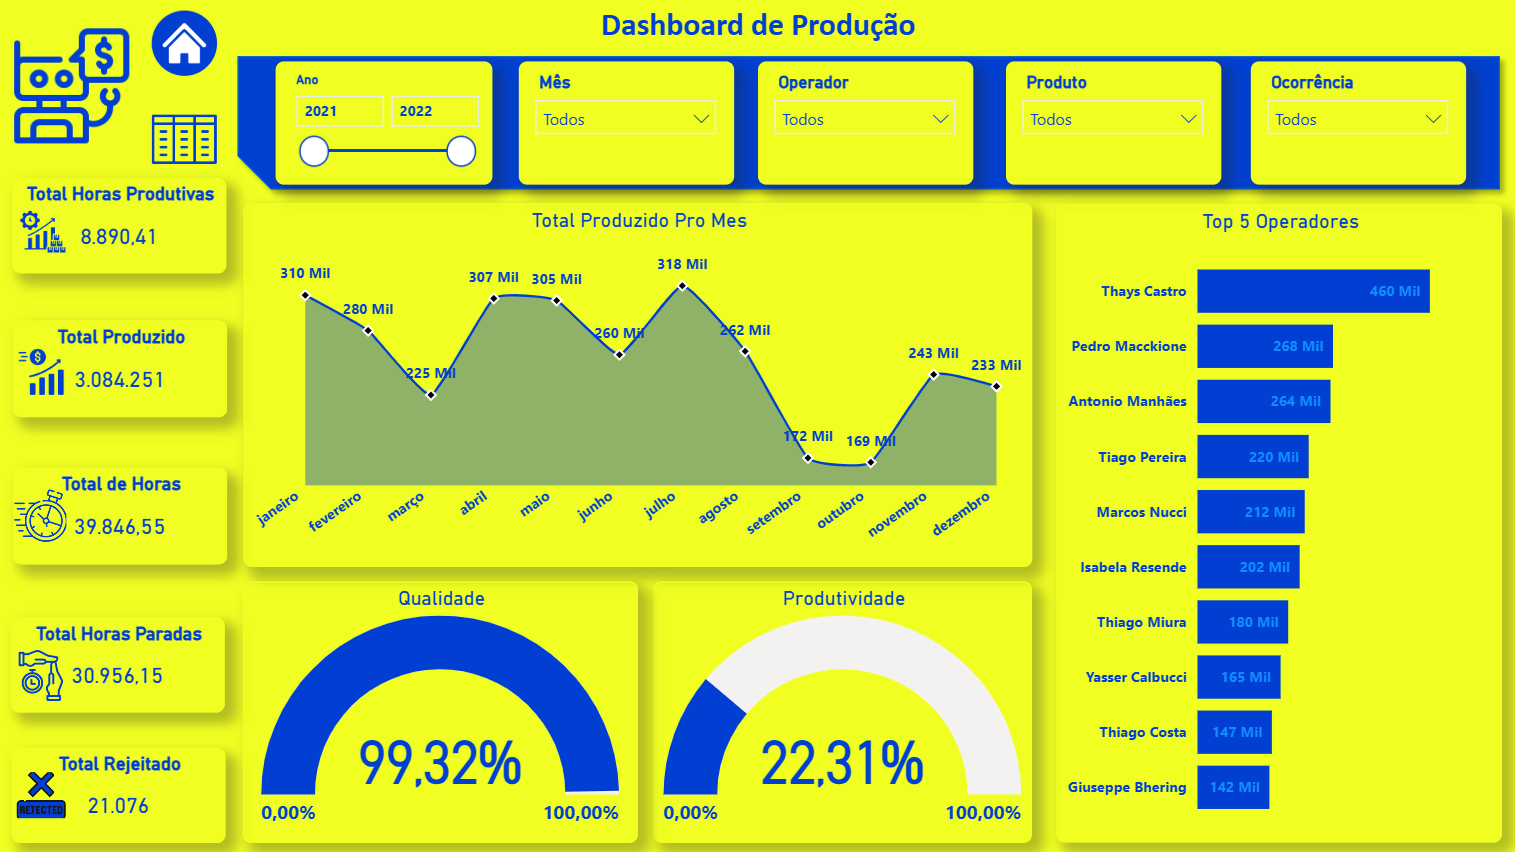

The dashboard page shown, as its layout file describes it:
{"tool":"powerbi","page":{"name":"DashBoard","canvas":[1280,720],"ordinal":1},"visuals":[{"type":"shape","box":[192.6,38.9,1080.6,130.3],"z":0},{"type":"card","title":"Total  Produzido","fields":{"Values":["medidas.QTD produzido"]},"box":[12.6,270.4,179.9,80.7],"z":1000},{"type":"card","title":"Total  Rejeitado","fields":{"Values":["medidas.QTD rejeitado"]},"box":[11.7,630.3,179.9,79.8],"z":2000},{"type":"card","title":"Total  de Horas","fields":{"Values":["medidas.Total de horas"]},"box":[12.6,394.9,179.9,80.7],"z":3000},{"type":"card","title":"Total Horas Produtivas","fields":{"Values":["medidas.Horas Produtivas"]},"box":[12.4,150.7,180,79.8],"z":4000},{"type":"card","title":"Total Horas Paradas","fields":{"Values":["medidas.Total de horas paradas"]},"box":[10.7,520.4,179.9,79.8],"z":5000},{"type":"slicer","fields":{"Values":["BaseProdução.Operador"]},"box":[640,52.5,180.9,104.1],"z":6000},{"type":"slicer","fields":{"Values":["BaseProdução.Data Inicio.Variation.Hierarquia de datas.Mês"]},"box":[438.7,52.5,180.9,104.1],"z":7000},{"type":"slicer","fields":{"Values":["BaseProdução.Produto"]},"box":[848.1,52.5,180.9,104.1],"z":8000},{"type":"slicer","fields":{"Values":["BaseProdução.Ocorrência"]},"box":[1054.5,52.7,180.9,103.6],"z":9000},{"type":"slicer","fields":{"Values":["BaseProdução.Data Inicio.Variation.Hierarquia de datas.Ano"]},"box":[233.4,52.5,181.9,104.1],"z":10000},{"type":"areaChart","title":"Total Produzido Pro Mes","fields":{"Y":["medidas.QTD produzido"],"Category":["BaseProdução.Data Inicio.Variation.Hierarquia de datas.Mês"]},"box":[206.6,172,664.1,305.9],"z":11000},{"type":"barChart","title":"Top 5 Operadores","fields":{"Category":["BaseProdução.Operador"],"Y":["medidas.Quantidade real"]},"box":[890.9,172.2,375.4,537.9],"z":12000},{"type":"gauge","fields":{"Y":["medidas.Produtividade"]},"box":[551.5,490.2,319,219.8],"z":13000},{"type":"gauge","fields":{"Y":["medidas.Qualidade"]},"box":[206.2,490.2,332.6,219.8],"z":14000},{"type":"textbox","box":[0,0,1280,45.7],"z":15000},{"type":"image","box":[121.6,4.9,70,65],"z":16000},{"type":"image","box":[111.9,77.8,90,80],"z":17000},{"type":"image","box":[12.6,168.3,49.6,54.5],"z":18000},{"type":"image","box":[10.7,287.9,51.6,51.6],"z":19000},{"type":"image","box":[8.8,407.5,53.5,55.4],"z":20000},{"type":"image","box":[4.9,538.8,62.2,61.3],"z":21000},{"type":"image","box":[10.7,645.8,51.6,48.6],"z":22000},{"type":"image","box":[2.9,0,118.7,146.9],"z":23000}]}

Visuals, with their boxes in screenshot pixels (x1, y1, x2, y2), scaled from the page's 1280x720 canvas onto the 1515x852 screenshot:
shape: left=228, top=46, right=1507, bottom=200
"Total  Produzido" card: left=15, top=320, right=228, bottom=415
"Total  Rejeitado" card: left=14, top=746, right=227, bottom=840
"Total  de Horas" card: left=15, top=467, right=228, bottom=563
"Total Horas Produtivas" card: left=15, top=178, right=228, bottom=273
"Total Horas Paradas" card: left=13, top=616, right=226, bottom=710
slicer - BaseProdução.Operador: left=758, top=62, right=972, bottom=185
slicer - BaseProdução.Data Inicio.Variation.Hierarquia de datas.Mês: left=519, top=62, right=733, bottom=185
slicer - BaseProdução.Produto: left=1004, top=62, right=1218, bottom=185
slicer - BaseProdução.Ocorrência: left=1248, top=62, right=1462, bottom=185
slicer - BaseProdução.Data Inicio.Variation.Hierarquia de datas.Ano: left=276, top=62, right=492, bottom=185
"Total Produzido Pro Mes" areaChart: left=245, top=204, right=1031, bottom=566
"Top 5 Operadores" barChart: left=1054, top=204, right=1499, bottom=840
gauge - medidas.Produtividade: left=653, top=580, right=1030, bottom=840
gauge - medidas.Qualidade: left=244, top=580, right=638, bottom=840
textbox: left=0, top=0, right=1514, bottom=54
image: left=144, top=6, right=227, bottom=83
image: left=132, top=92, right=239, bottom=187
image: left=15, top=199, right=74, bottom=264
image: left=13, top=341, right=74, bottom=402
image: left=10, top=482, right=74, bottom=548
image: left=6, top=638, right=79, bottom=710
image: left=13, top=764, right=74, bottom=822
image: left=3, top=0, right=144, bottom=174
